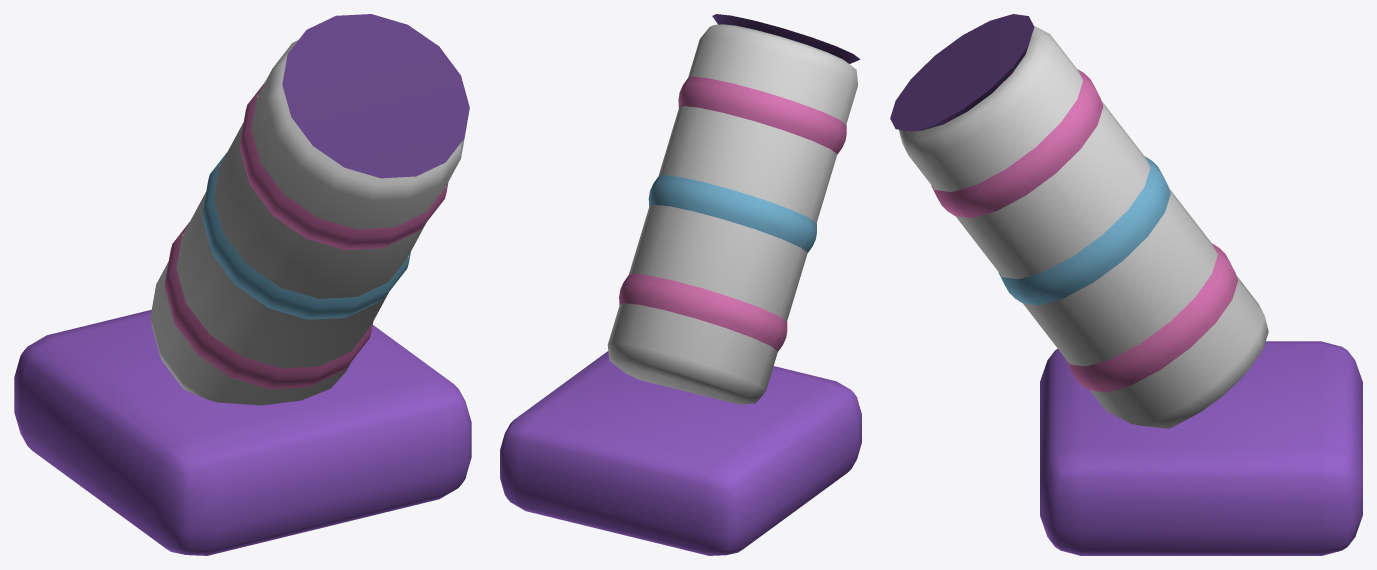
File: confetti_cannon.glb
3 renders of one model, left to right at view 1: azimuth 30°, elevation 25°; view 2: azimuth 150°, elevation 25°; view 3: azimuth 270°, elevation 25°, orthographic. The views are drawn at different scales.
Visible parts, largest first — view 1: confetti_cannon; view 2: confetti_cannon; view 3: confetti_cannon.
Boxes of the visible parts, x1,y1,x2,y2 form: confetti_cannon: [14, 14, 471, 555]; confetti_cannon: [500, 14, 861, 555]; confetti_cannon: [890, 14, 1362, 555].
Bounding box in the file's own units: 1.1 × 1.79 × 1.61.
